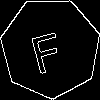F: (25, 23, 66, 75)
